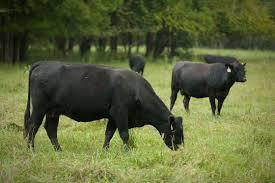cow: (25, 63, 184, 152), (170, 59, 247, 117), (129, 55, 146, 76)
